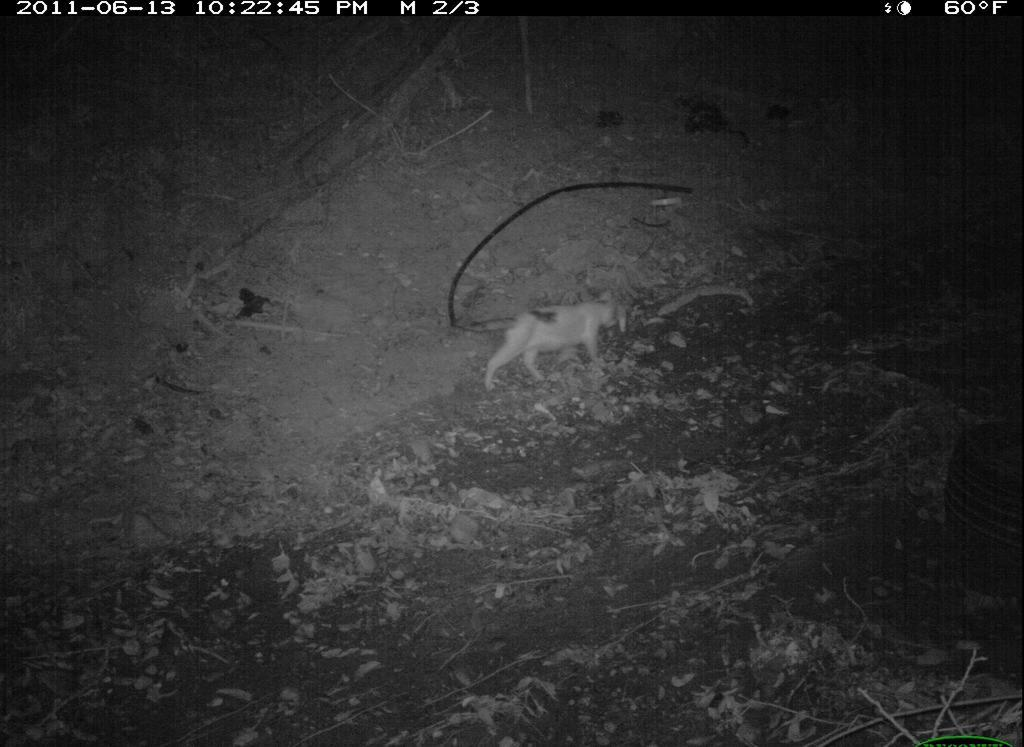cat: (450, 289, 625, 399)
